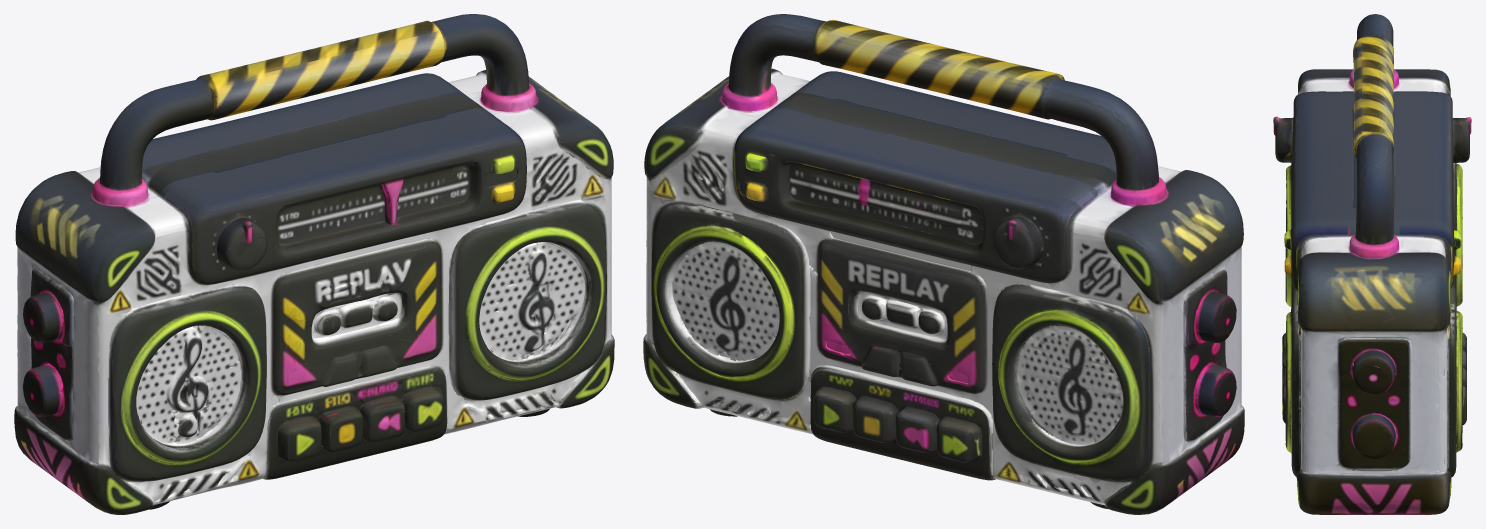
The model's file is u_prp_boombox.glb.
3 views of the same model, side by side, from view 1: azimuth 30°, elevation 25°; view 2: azimuth 150°, elevation 25°; view 3: azimuth 270°, elevation 25° (orthographic). The views are drawn at different scales.
Visible parts, largest first — view 1: geometry_0; view 2: geometry_0; view 3: geometry_0.
Boxes of the visible parts, box(x1,y1,x2,y2) form: geometry_0: box(14, 14, 614, 514); geometry_0: box(643, 14, 1244, 514); geometry_0: box(1273, 14, 1471, 514).
Size of the model in its own units: 0.35 by 0.2293 by 0.1213.
1 material, 1 textured.
